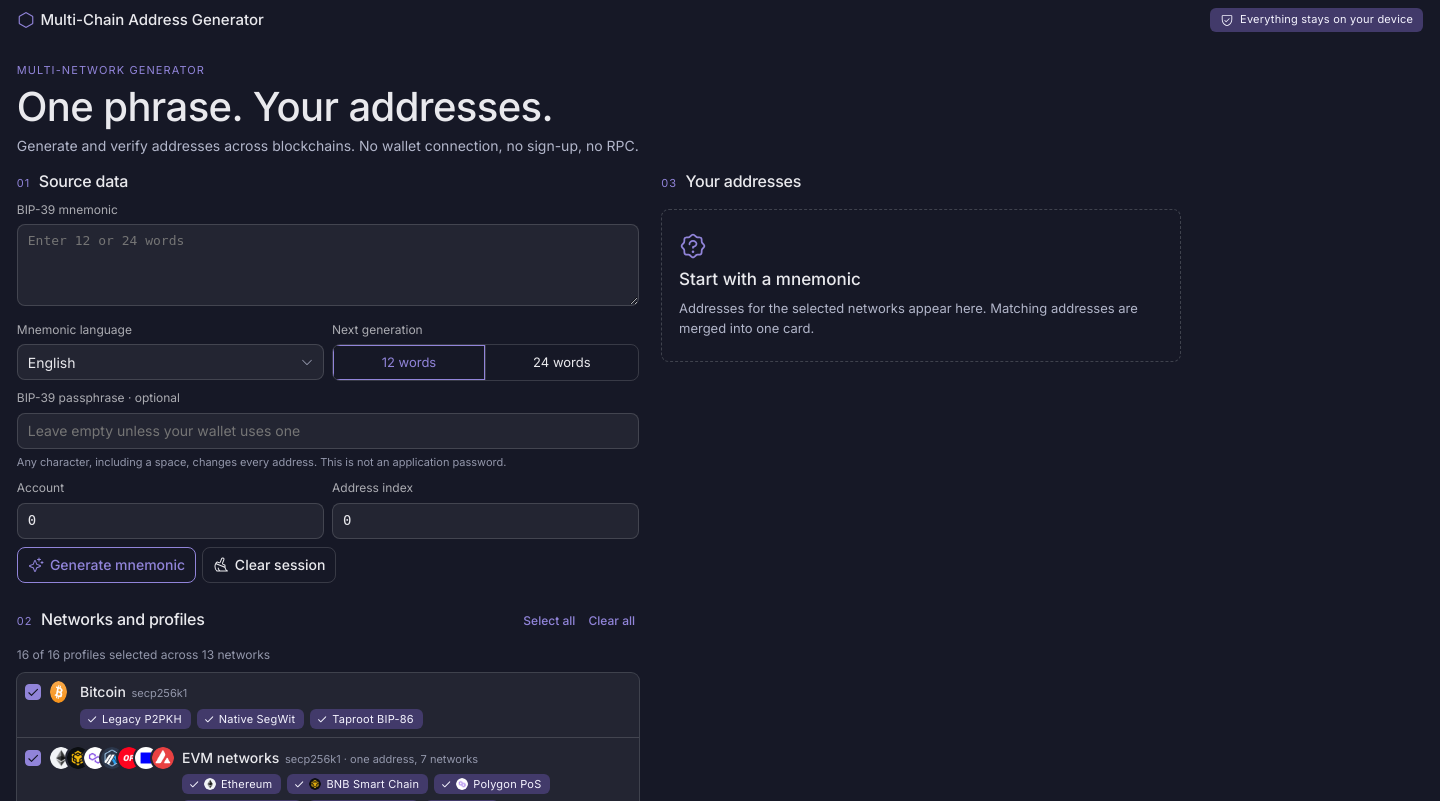
Test case: App › clears results immediately when the input changes and again on Clear session
Click the text box labelled "BIP-39 mnemonic" at (328, 265), box [17,224,639,306]
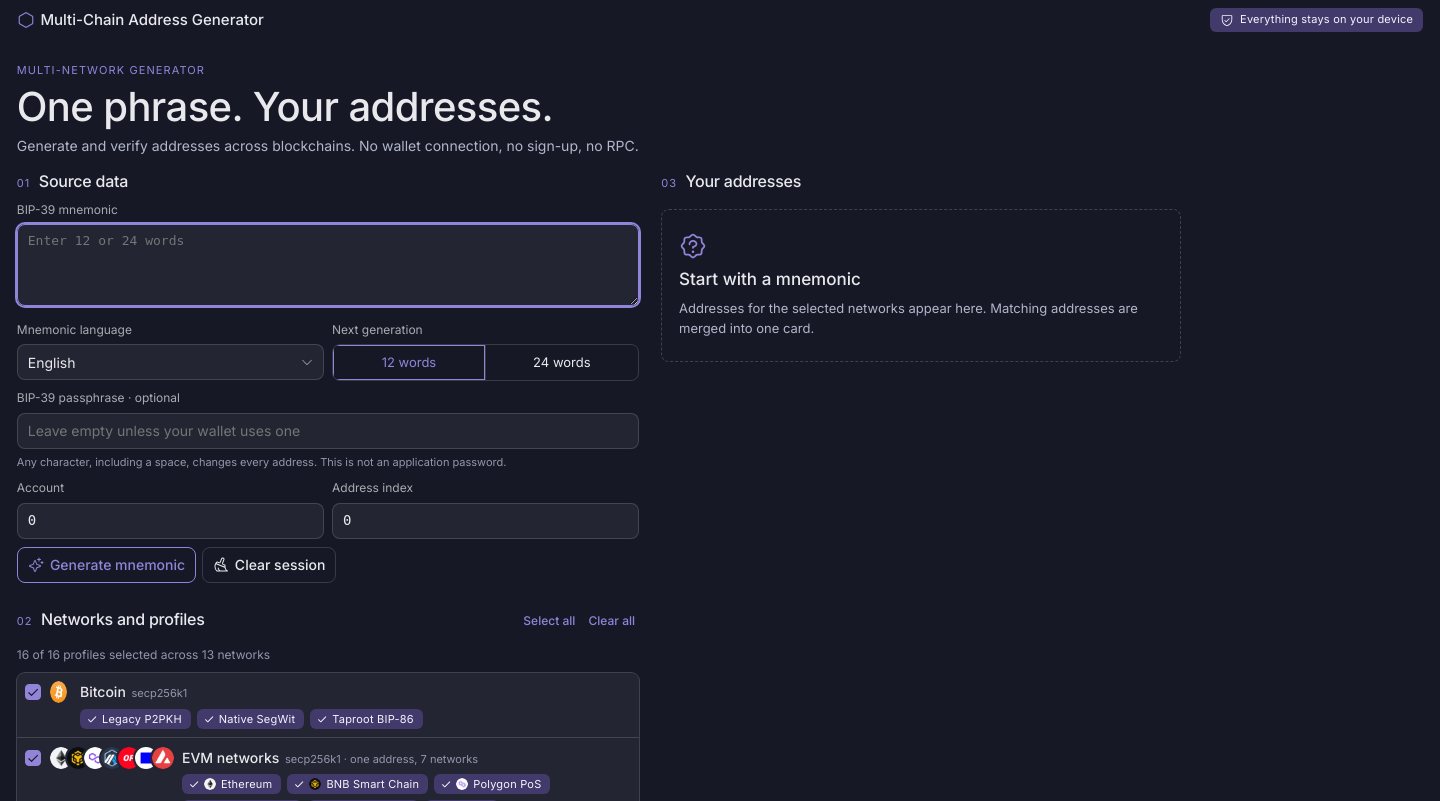
Type keys "abandon abandon abandon abandon abandon abandon abandon abandon abandon abandon abandon about"
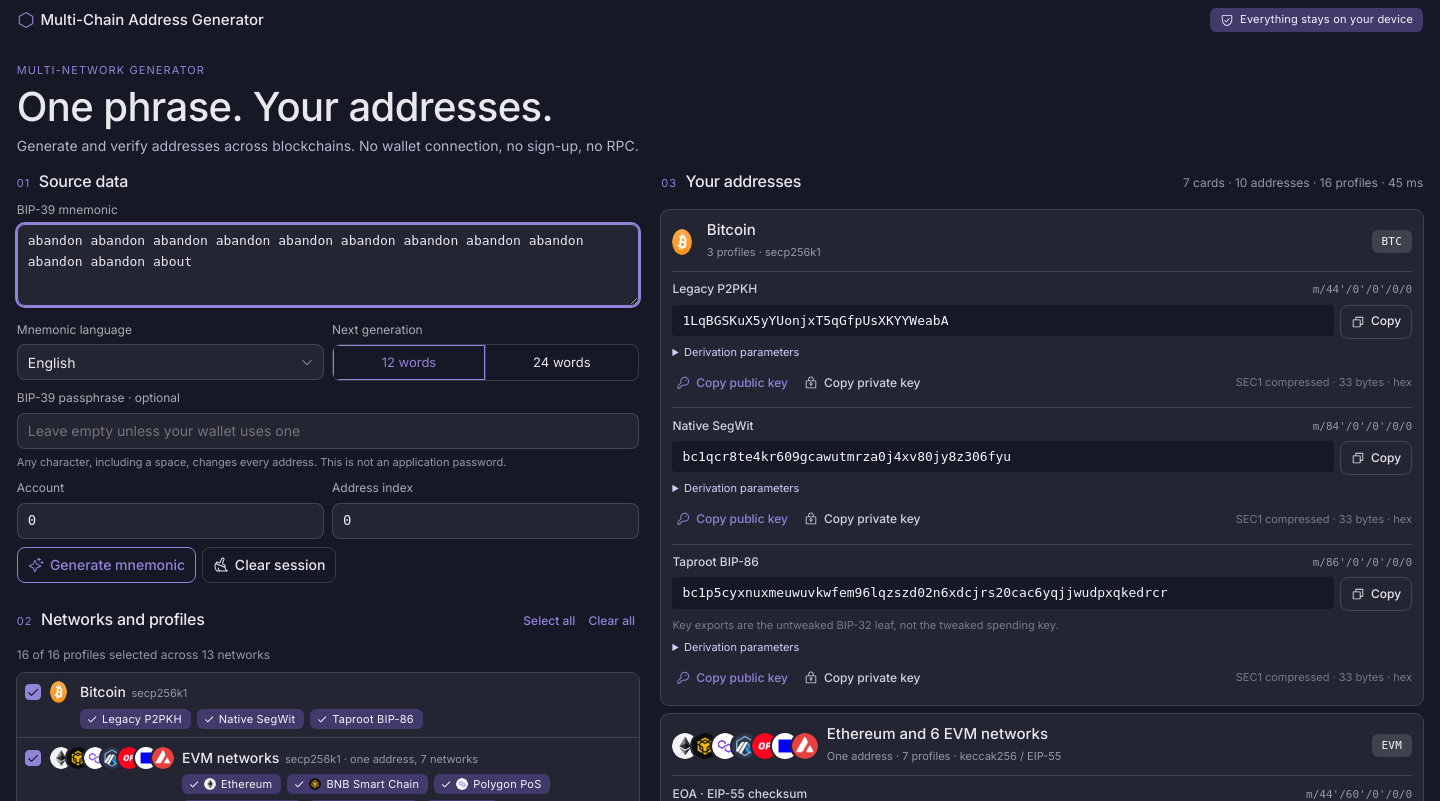
Type "x" into the password field labelled "BIP-39 passphrase · optional" at (328, 430), box [17,412,639,448]
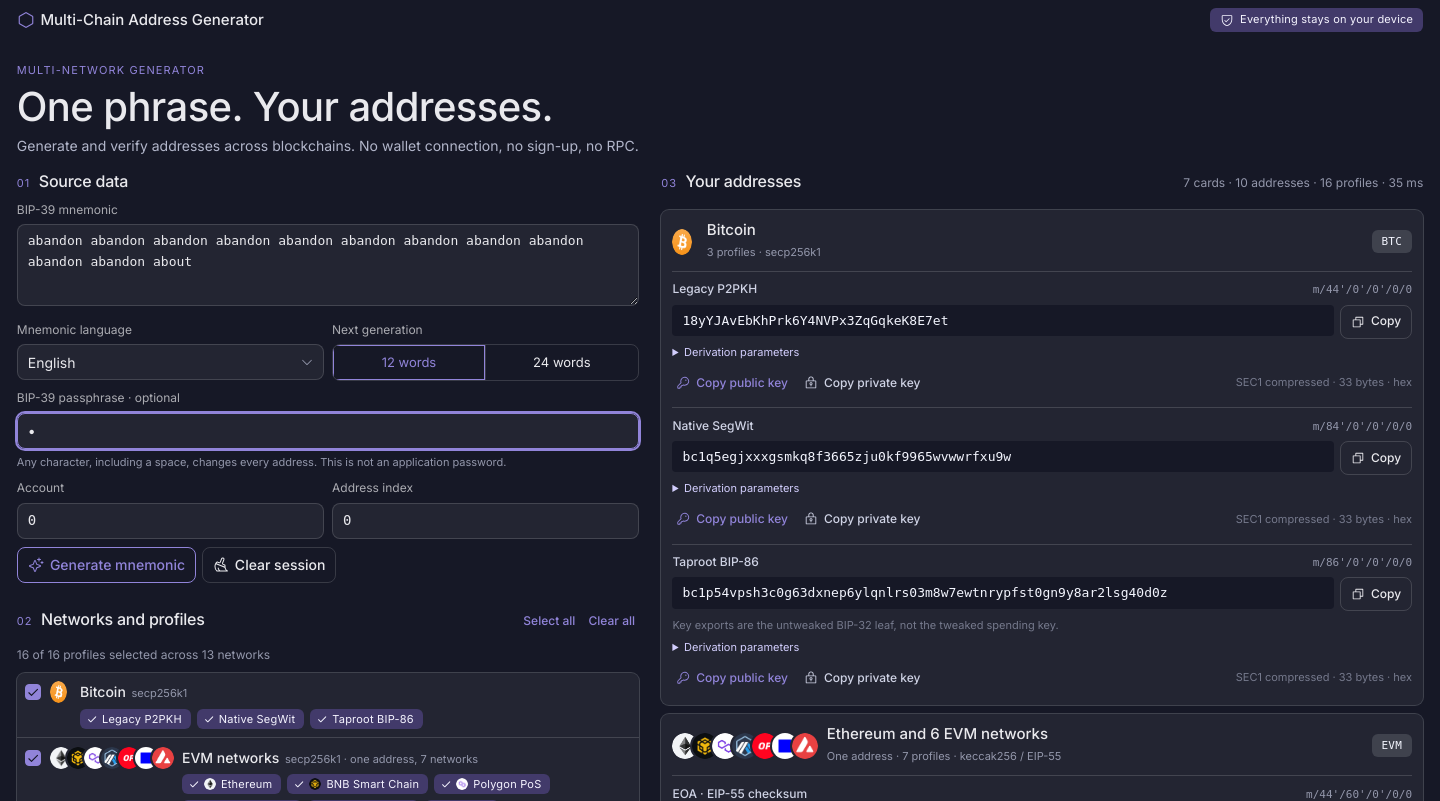
Click the button "Clear session" at (269, 565), box [202,547,336,583]
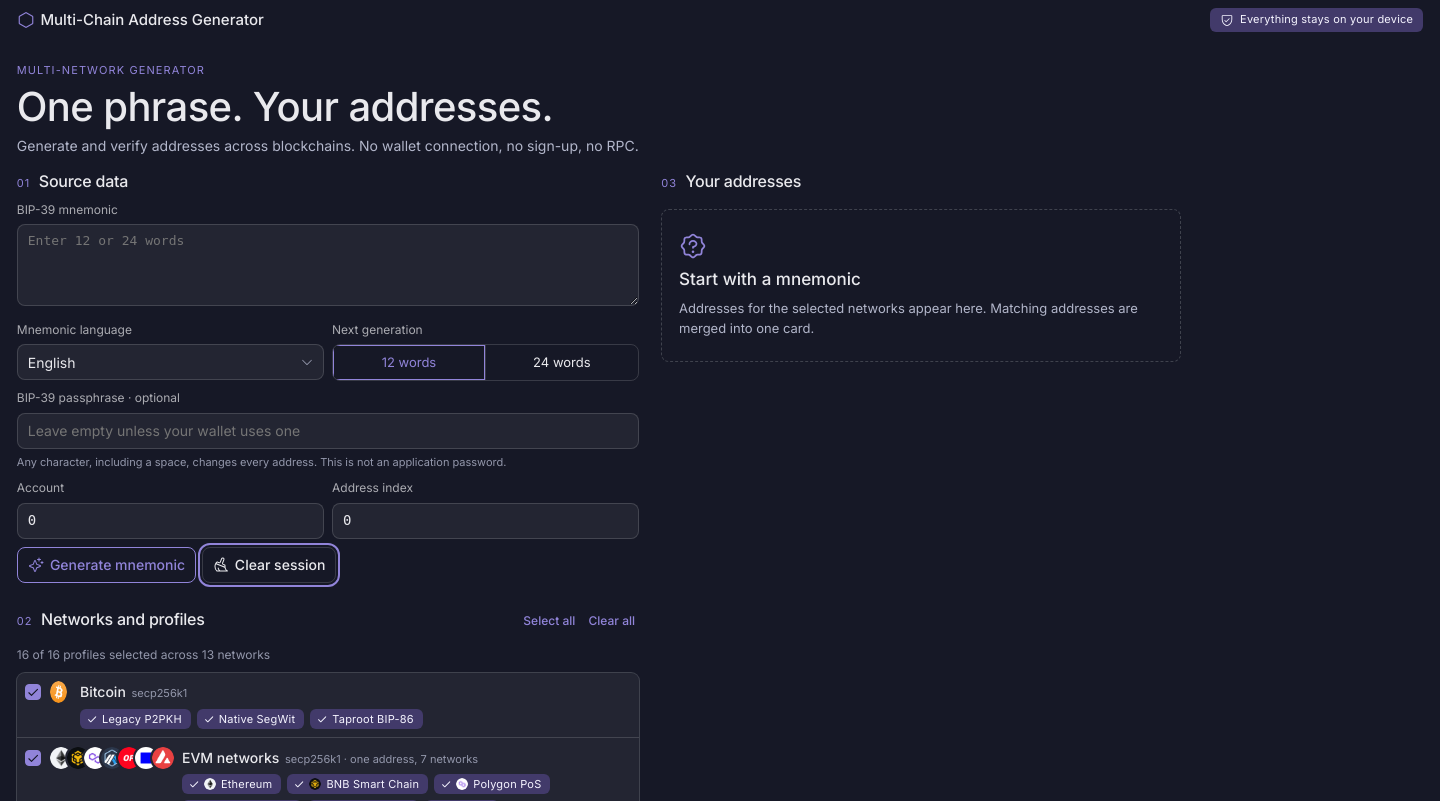
Expected: the text box labelled "BIP-39 mnemonic" is empty, [17,224,639,306]
Expected: the password field labelled "BIP-39 passphrase · optional" is empty, [17,412,639,448]
Expected: the text "Start with a mnemonic" is shown, [679,266,861,292]
